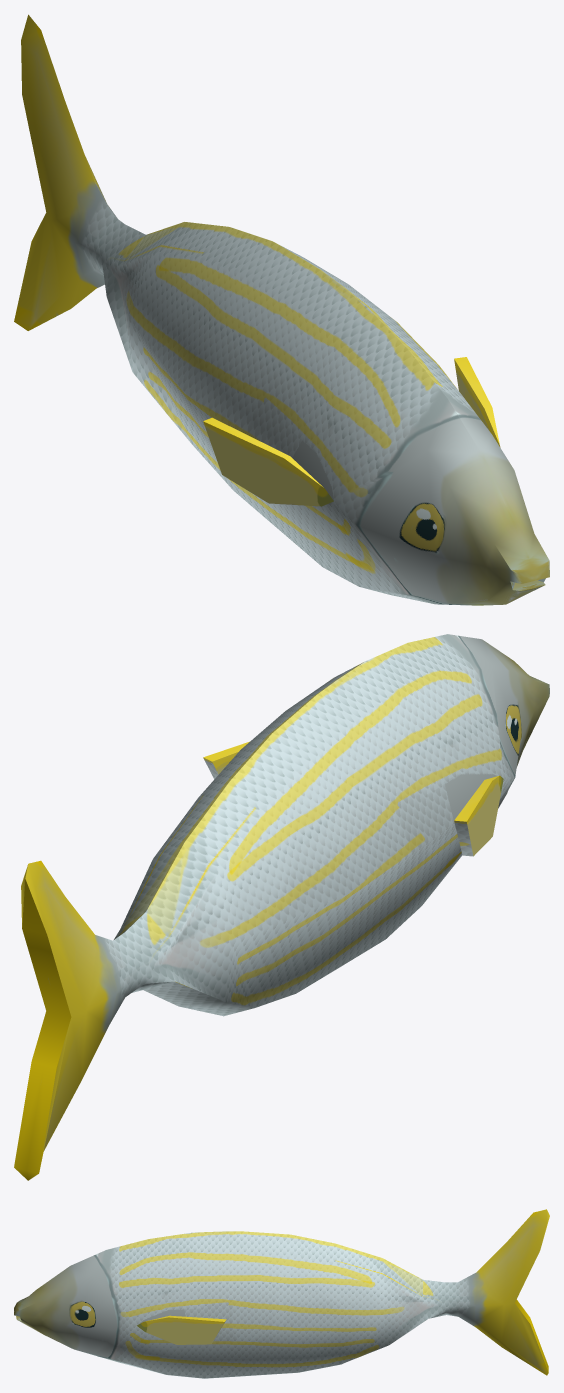
File: Sarpa_Salpa.fbx
3 views of the same model, one above another, from view 1: azimuth 30°, elevation 25°; view 2: azimuth 150°, elevation 25°; view 3: azimuth 270°, elevation 25° (orthographic). The views are drawn at different scales.
Parts seen in each view (by area): view 1: Vert; view 2: Vert; view 3: Vert.
Boxes of the visible parts, left/top/right/bottom form: Vert: left=14, top=14, right=549, bottom=605; Vert: left=14, top=634, right=549, bottom=1180; Vert: left=14, top=1209, right=549, bottom=1378.
Size of the model in its own units: 134 by 157 by 451.
1 material, 1 textured.
